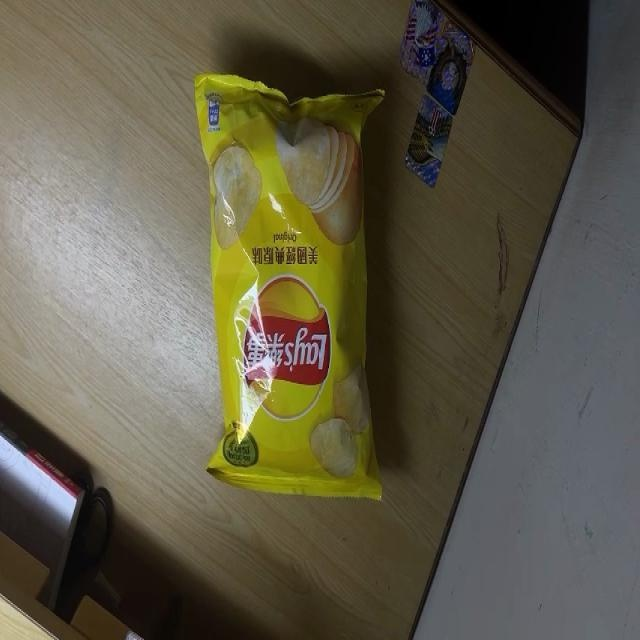Lay-s-original: (194, 71, 386, 506)
